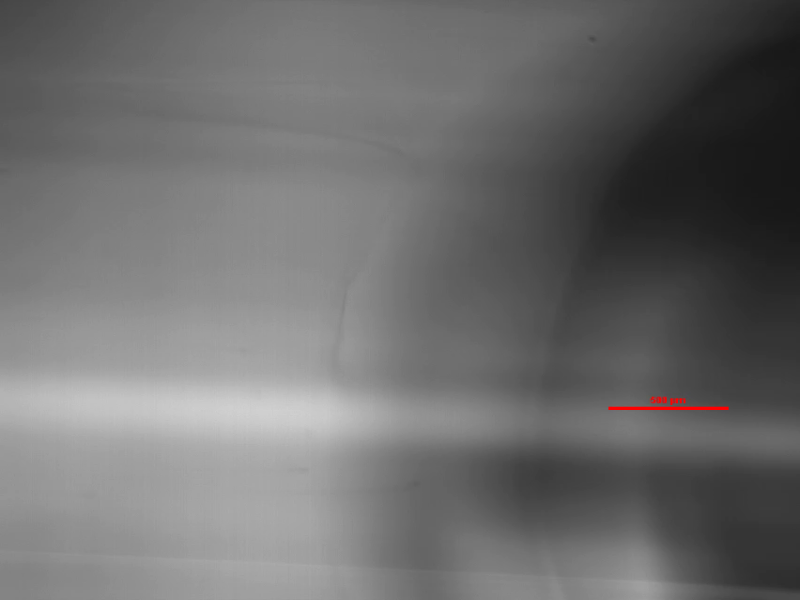bead: (585, 34, 597, 43)
fiber: (111, 104, 416, 392), (286, 474, 424, 500)
